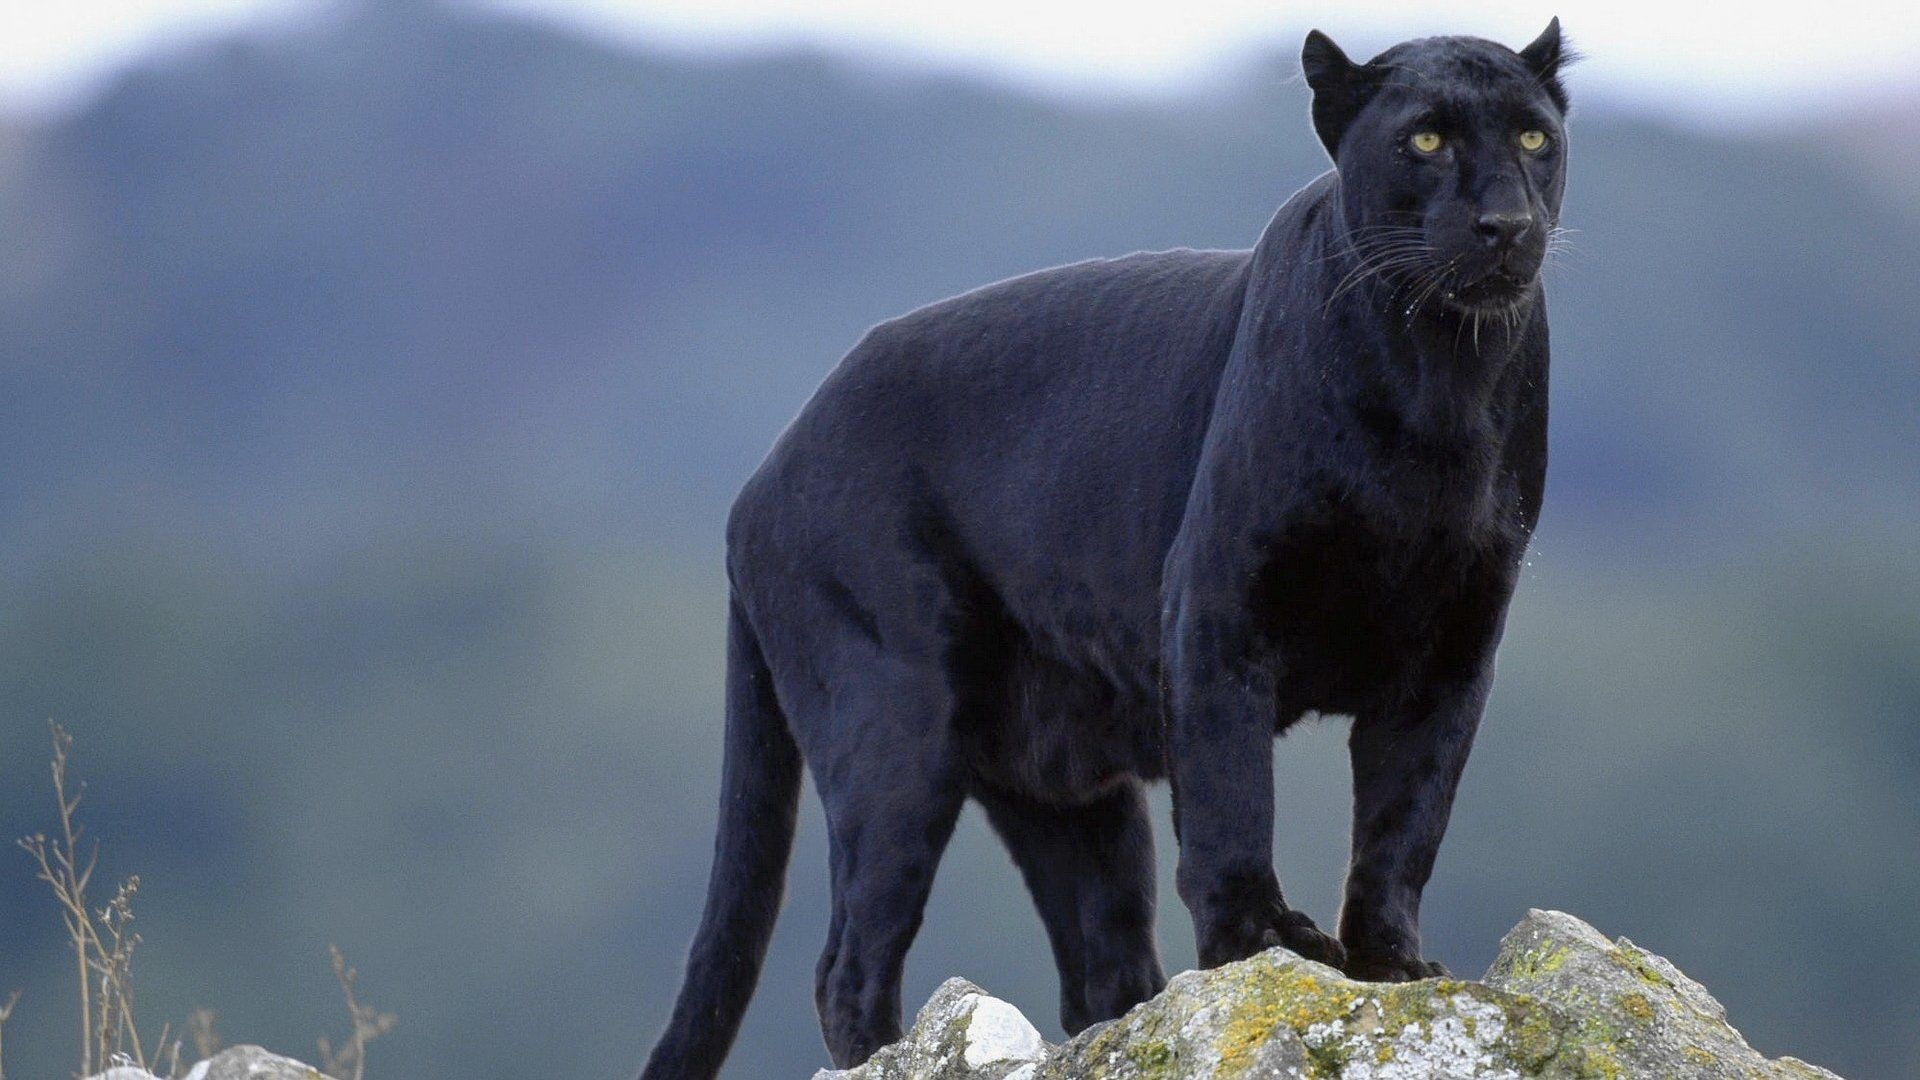panther: (1284, 16, 1628, 377)
